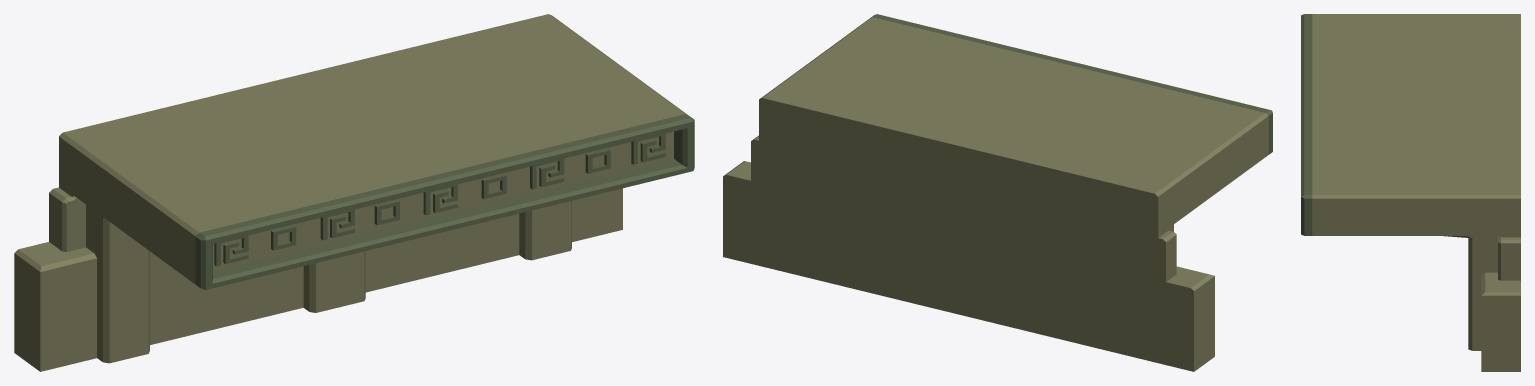
Rendered from temple_back.fbx.
3 views of the same model, side by side, from view 1: azimuth 30°, elevation 25°; view 2: azimuth 150°, elevation 25°; view 3: azimuth 270°, elevation 25° (orthographic). The views are drawn at different scales.
Visible parts, largest first — view 1: temple_back1b, temple_back1_decor; view 2: temple_back1b; view 3: temple_back1b.
Part boxes in pixels (box(x1,y1,x2,y2)): temple_back1b: box(14, 14, 694, 371); temple_back1_decor: box(214, 133, 665, 266); temple_back1b: box(723, 14, 1272, 371); temple_back1b: box(1301, 14, 1520, 371).
Size of the model in its own units: 12.17 by 4.16 by 5.21.
